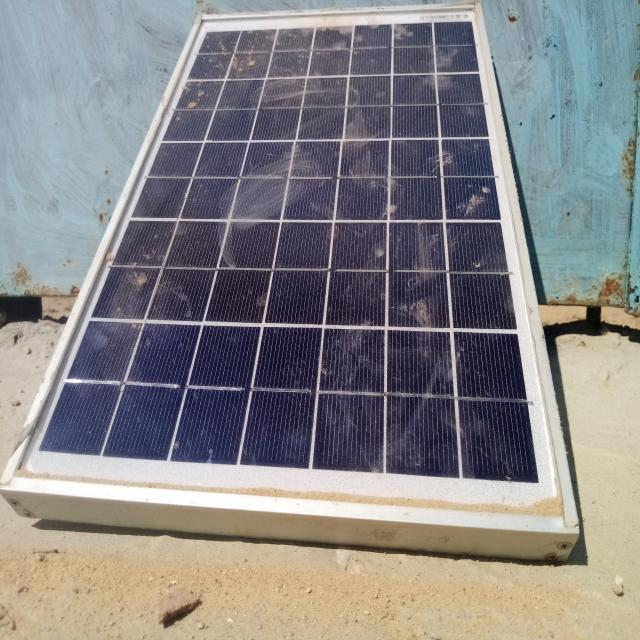faulty: (5, 4, 577, 531)
